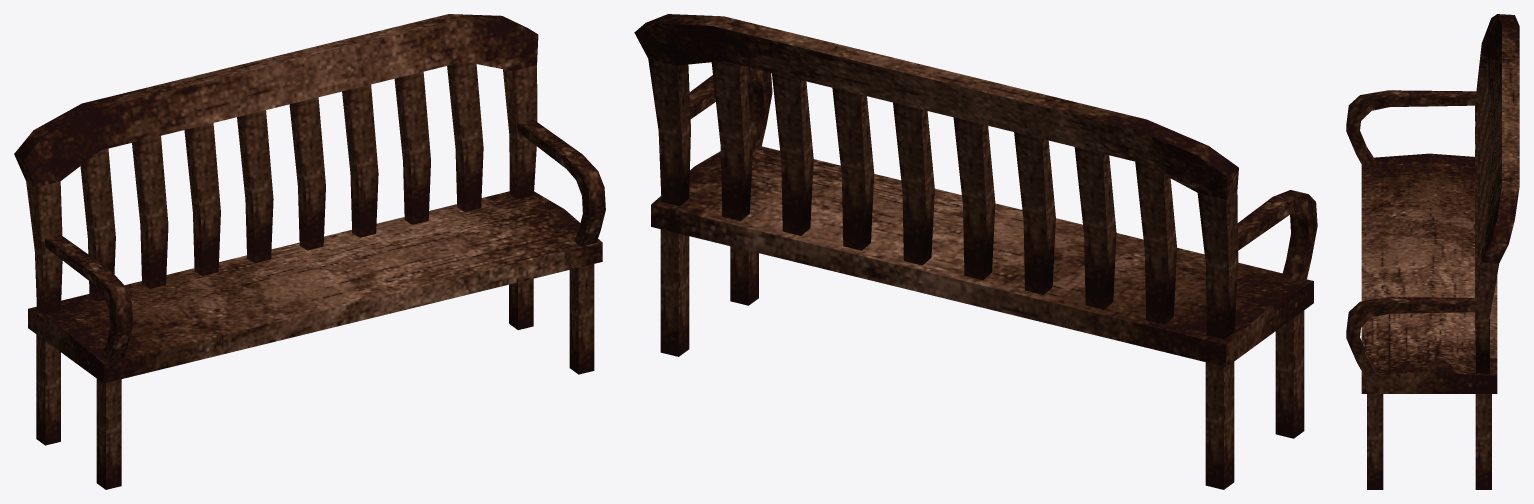
Rendered from Banca.fbx.
3 renders of one model, left to right at view 1: azimuth 30°, elevation 25°; view 2: azimuth 150°, elevation 25°; view 3: azimuth 270°, elevation 25°, orthographic. The views are drawn at different scales.
Parts seen in each view (by area): view 1: Banca; view 2: Banca; view 3: Banca.
Boxes of the visible parts, x1=… form: Banca: x1=14, y1=14, x2=605, y2=489; Banca: x1=634, y1=14, x2=1317, y2=489; Banca: x1=1346, y1=14, x2=1519, y2=489.
Bounding box in the file's own units: 1.96 × 1.13 × 0.6382.
